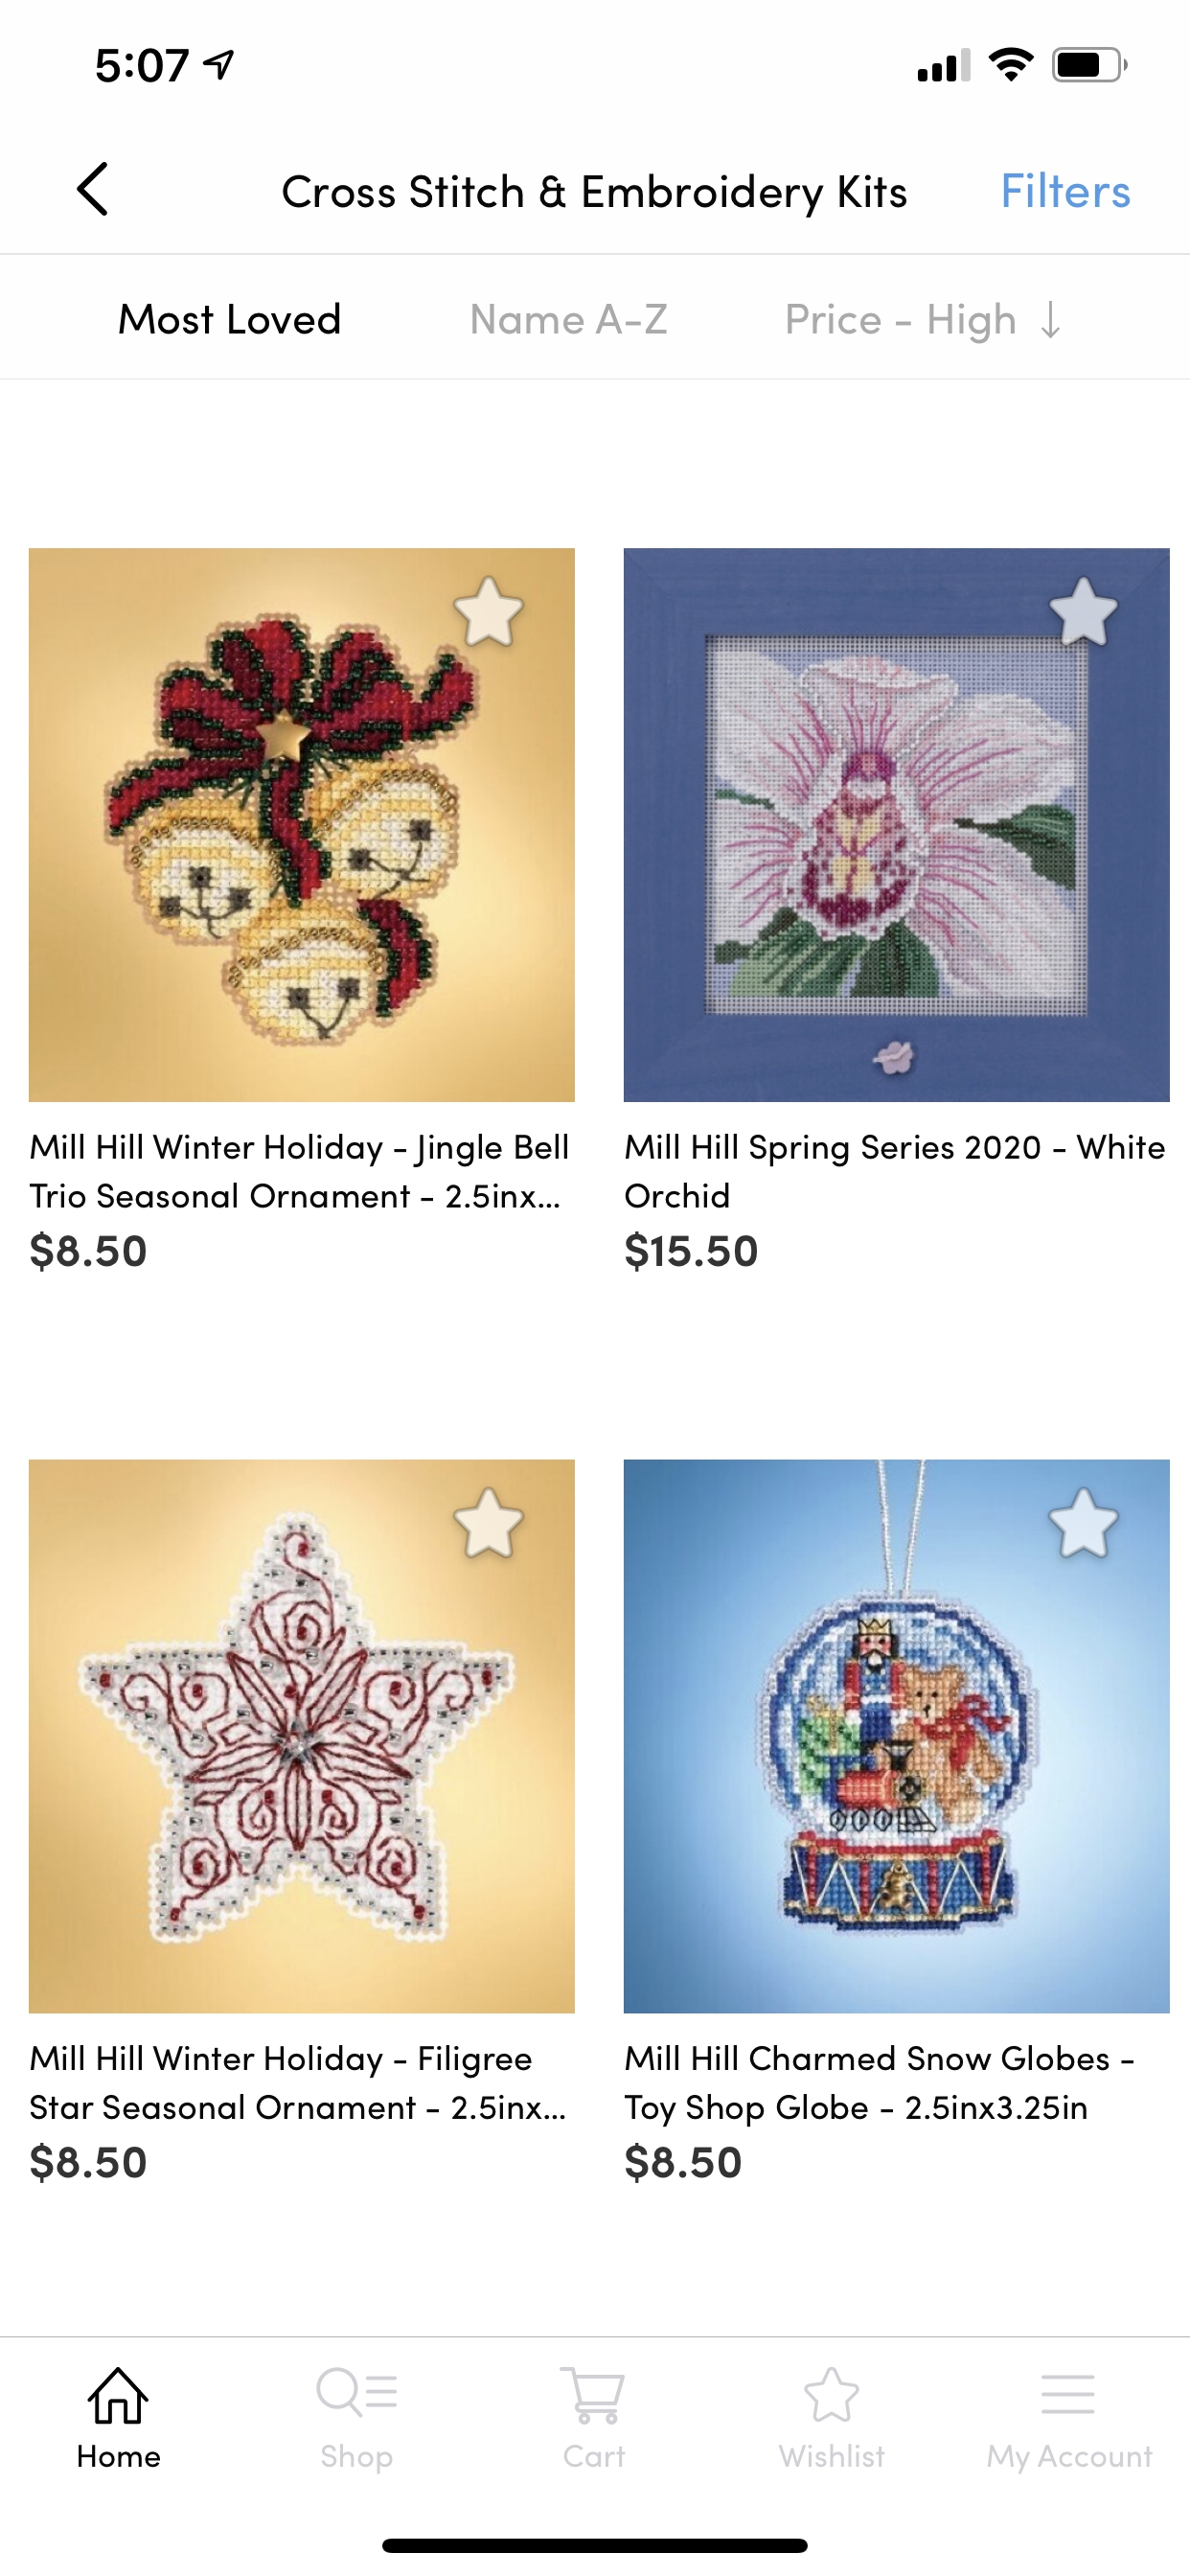Icon: (1047, 1487, 1119, 1559), (452, 575, 524, 647), (454, 1488, 524, 1559), (1049, 575, 1119, 646), (316, 2366, 396, 2418), (559, 2366, 625, 2425), (87, 2366, 148, 2425), (804, 2367, 860, 2422), (1042, 2374, 1095, 2413), (77, 163, 108, 217), (1040, 301, 1060, 338)
Image: (623, 1459, 1170, 2014), (28, 1459, 575, 2014), (623, 549, 1170, 1102), (28, 549, 575, 1102)
Text: (625, 2045, 1134, 2127), (625, 1134, 1165, 1209), (30, 1134, 567, 1209), (31, 2045, 565, 2119), (283, 174, 906, 218), (787, 302, 1014, 343), (118, 302, 342, 335), (472, 304, 667, 335), (626, 1232, 758, 1272), (988, 2445, 1152, 2474), (1003, 171, 1129, 209), (626, 2142, 741, 2183), (31, 2142, 146, 2183), (31, 1232, 146, 1272), (777, 2443, 886, 2468), (322, 2443, 393, 2474), (79, 2445, 159, 2468), (564, 2445, 626, 2468)
UpperTaskBar: (97, 48, 1128, 84)
